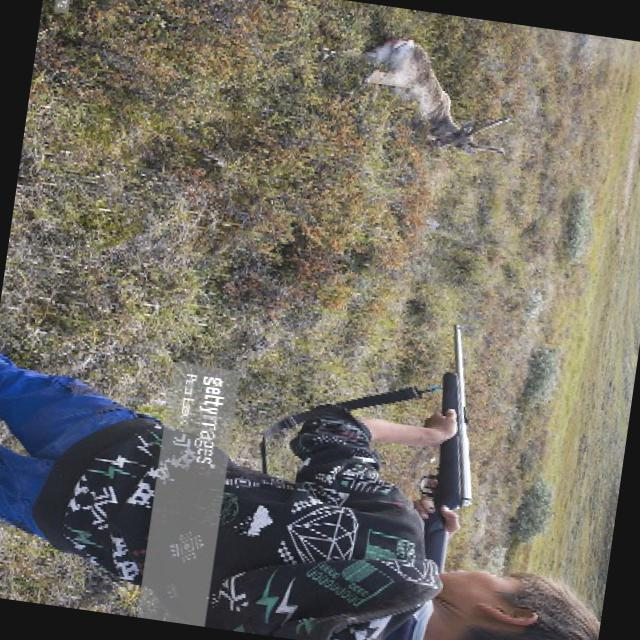long weapon: (376, 298, 509, 639)
